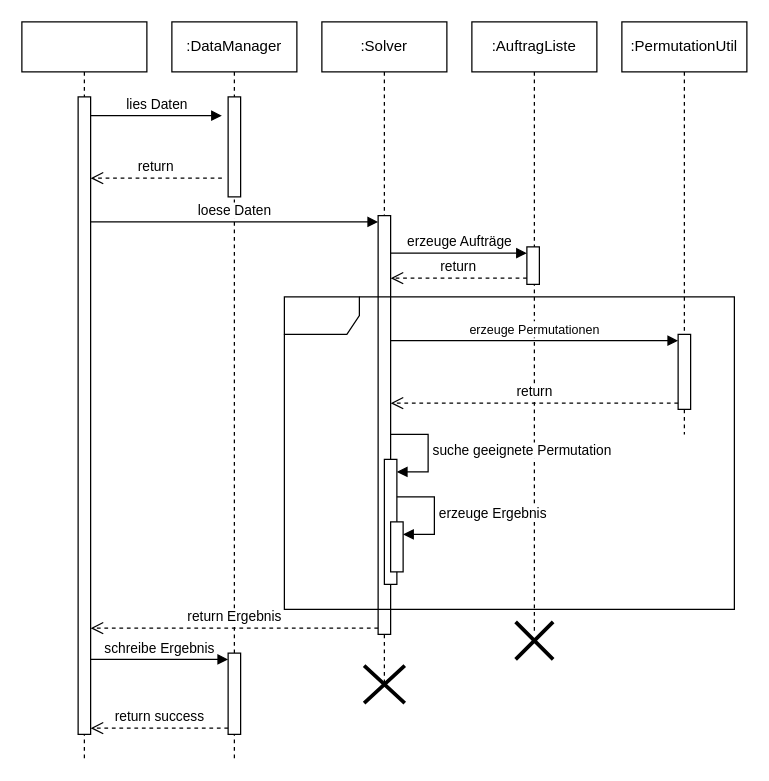
Image size: 769x781. Some labels were removed from this diagram. Each missing label, with the box of its shape:
:Main: (21, 21, 147, 759)
par: (283, 296, 734, 609)
